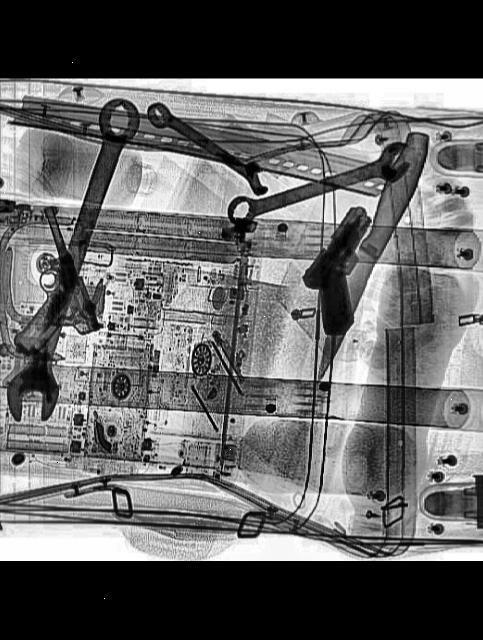Gun: (278, 202, 415, 341), (0, 203, 106, 357)
Knife: (306, 129, 439, 384)
Wrench: (0, 91, 152, 428), (222, 137, 422, 230), (140, 93, 280, 196)
